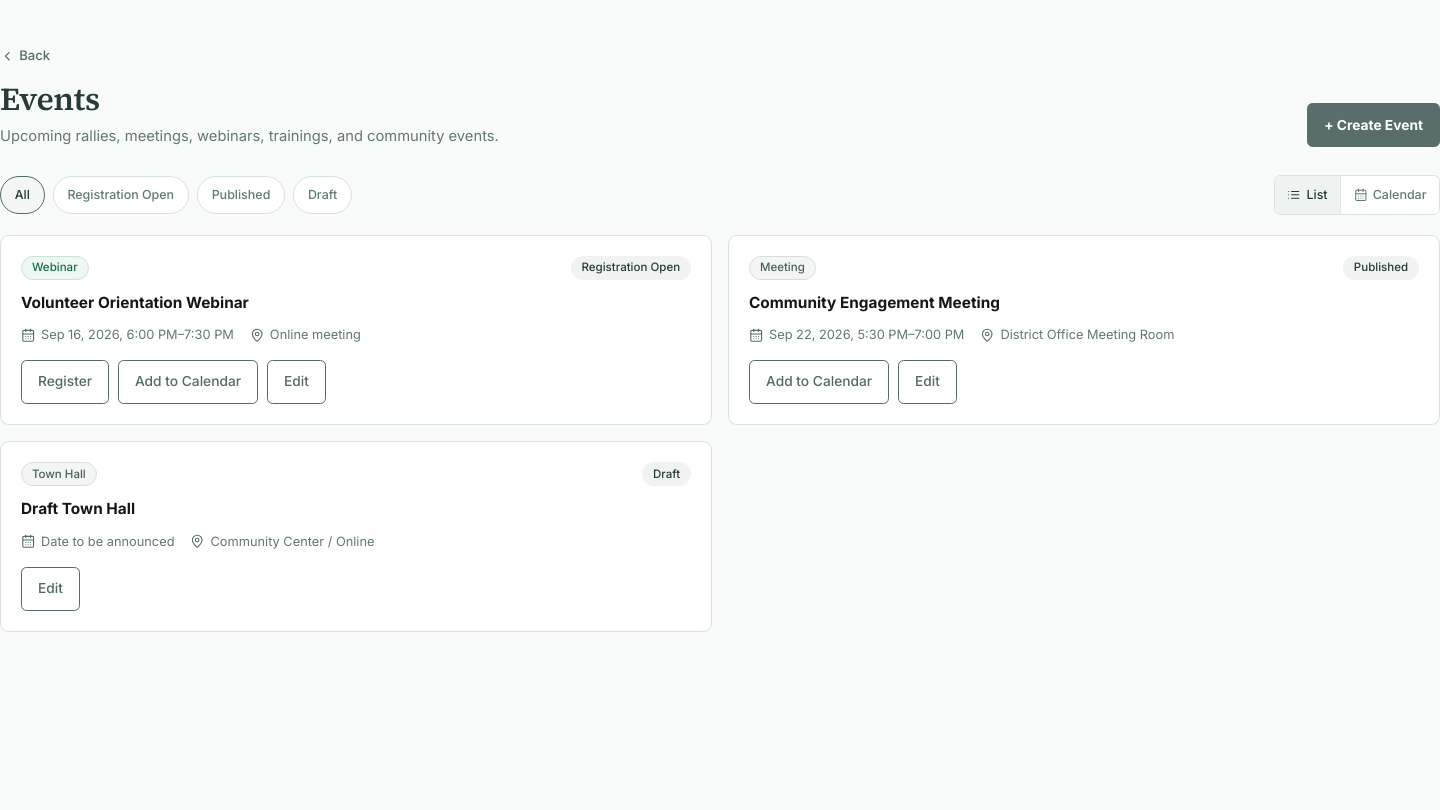
Scenario: Events › opens Event details only from a list-card title and keeps card actions separate
Expected: the button "Register" is shown, [21,360,109,404]
Expected: the button "Add to Calendar" below "Sep 16, 2026, 6:00 PM–7:30 PM" is shown, [118,360,258,404]
Click the button "Volunteer Orientation Webinar" at (135, 303), box [21,293,249,314]
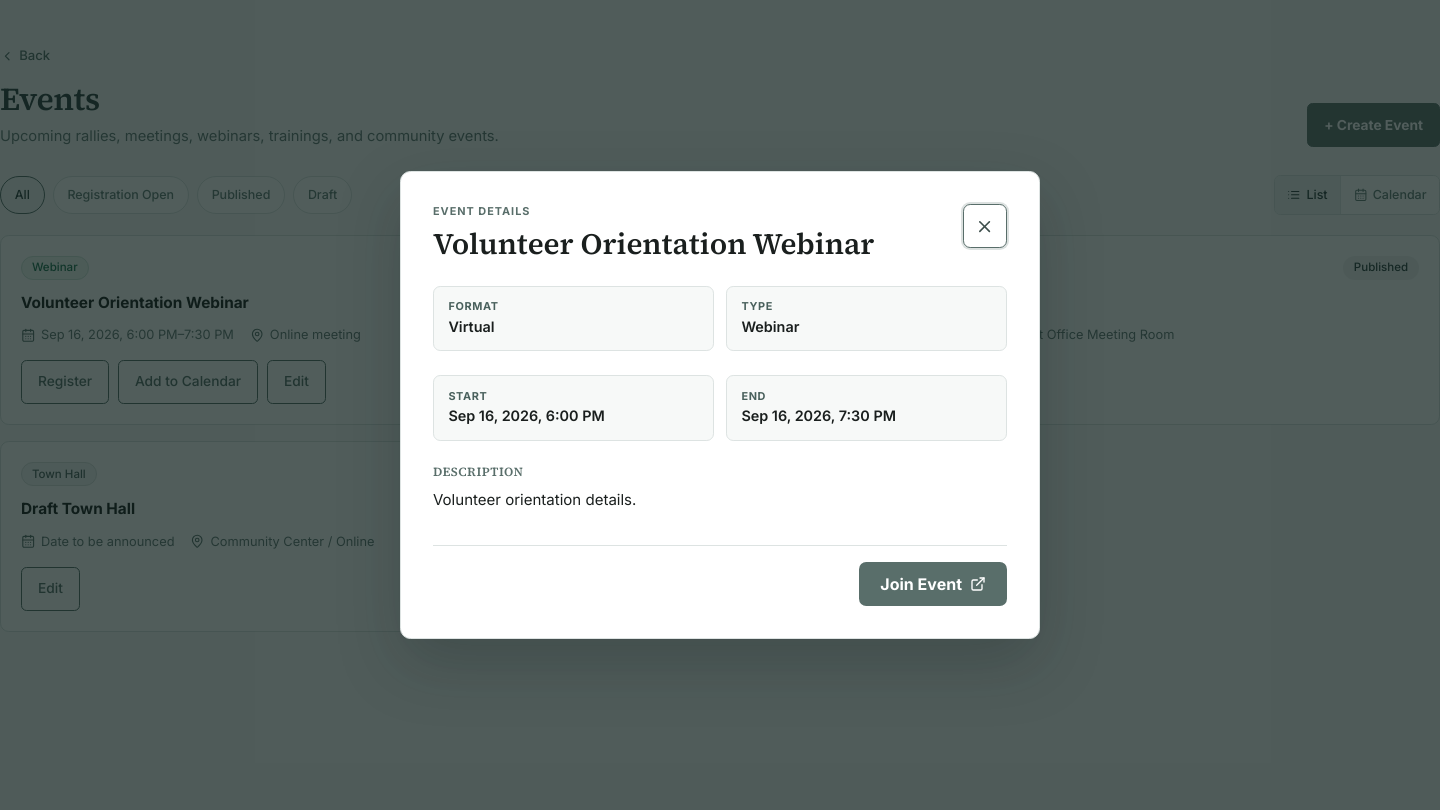
Expected: the text "Volunteer orientation details." is shown, [433,490,636,509]
